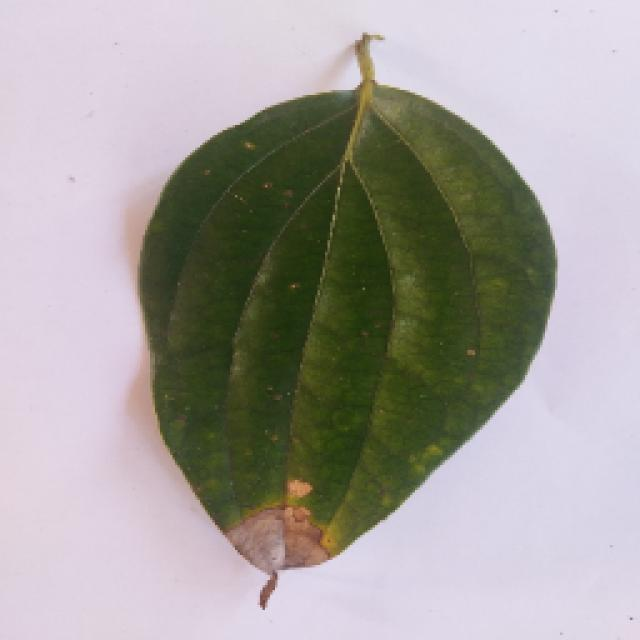footrot: (122, 47, 572, 605)
